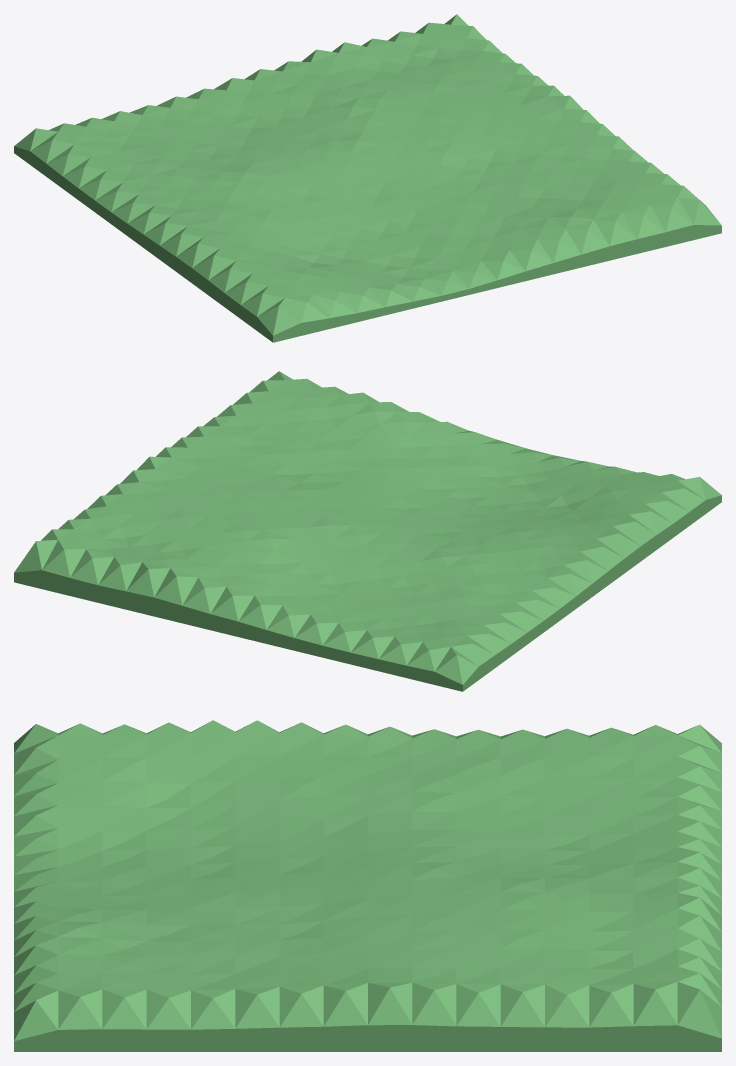
Rendered from snowfloor.glb.
3 renders of one model, top to bottom at view 1: azimuth 30°, elevation 25°; view 2: azimuth 150°, elevation 25°; view 3: azimuth 270°, elevation 25°, orthographic. The views are drawn at different scales.
Visible parts, largest first — view 1: Mesh_Mesh_head_geo.001_lambert2SG.001; view 2: Mesh_Mesh_head_geo.001_lambert2SG.001; view 3: Mesh_Mesh_head_geo.001_lambert2SG.001.
Part boxes in pixels (<box>): Mesh_Mesh_head_geo.001_lambert2SG.001: <box>14,14,721,342</box>; Mesh_Mesh_head_geo.001_lambert2SG.001: <box>14,371,721,691</box>; Mesh_Mesh_head_geo.001_lambert2SG.001: <box>14,720,721,1051</box>.
Size of the model in its own units: 20 by 1.71 by 20.
